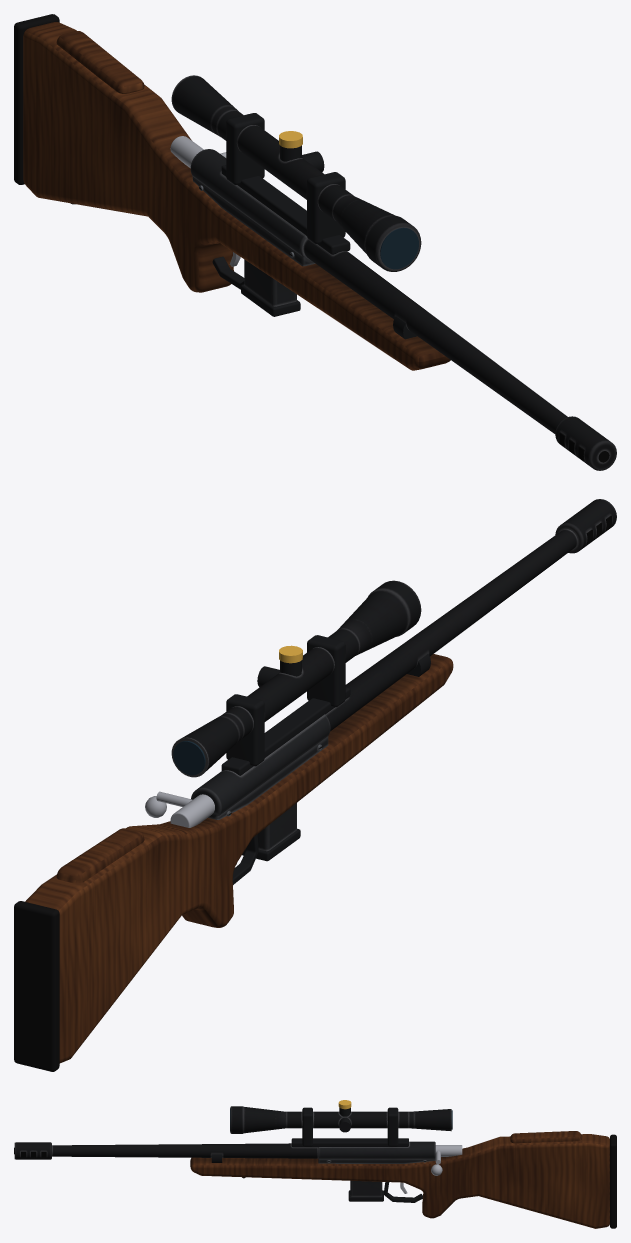
Rendered from SHIKARI_98.fbx.
The picture shows the model from 3 angles, top to bottom: view 1: azimuth 30°, elevation 25°; view 2: azimuth 150°, elevation 25°; view 3: azimuth 270°, elevation 25°; orthographic projection. The views are drawn at different scales.
Visible parts, largest first — view 1: SHIKARI_98_LOD0, Mag_LOD0, Bolt_LOD0; view 2: SHIKARI_98_LOD0, Bolt_LOD0, Mag_LOD0; view 3: SHIKARI_98_LOD0, Mag_LOD0, Bolt_LOD0.
Part boxes in pixels (x1,y1,x2,y2): SHIKARI_98_LOD0: (14,14,616,470); Mag_LOD0: (241,259,300,316); Bolt_LOD0: (170,136,226,168); SHIKARI_98_LOD0: (14,499,616,1071); Bolt_LOD0: (145,791,214,827); Mag_LOD0: (242,803,300,861); SHIKARI_98_LOD0: (14,1100,616,1228); Mag_LOD0: (348,1180,383,1201); Bolt_LOD0: (431,1145,462,1175).
Size of what is drawn, in the model's own units: 0.092 by 0.254 by 1.13.
